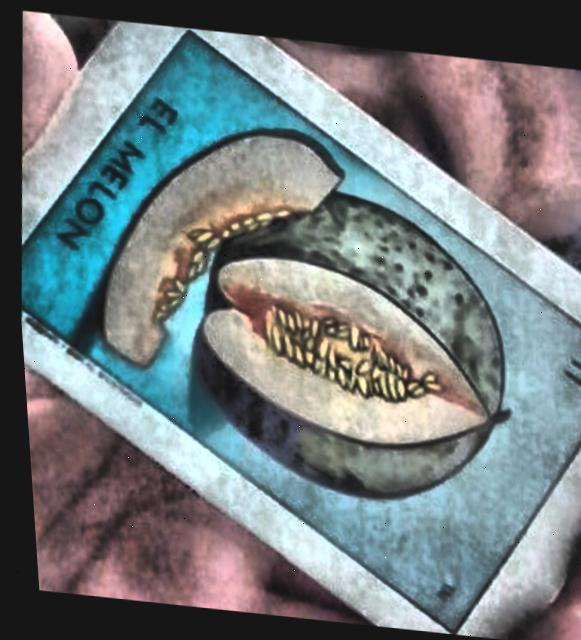El Melon: (16, 32, 581, 631)
